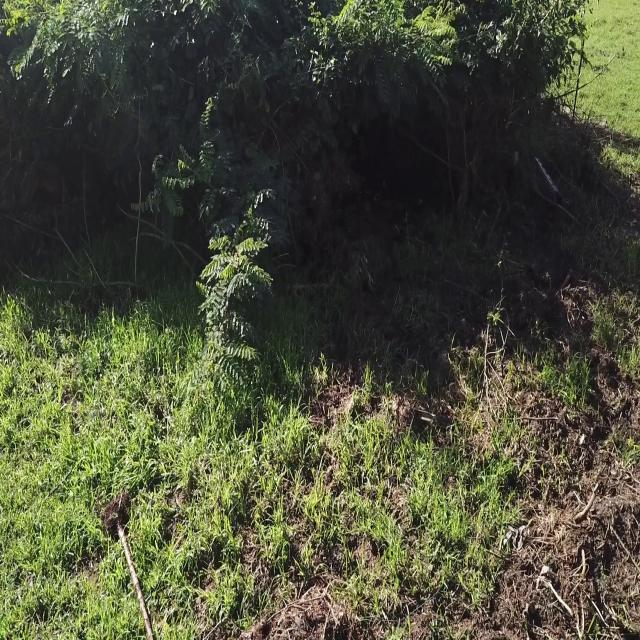Mysore-Thorn-Weed: (132, 96, 278, 390), (0, 0, 133, 100), (329, 0, 465, 94)
